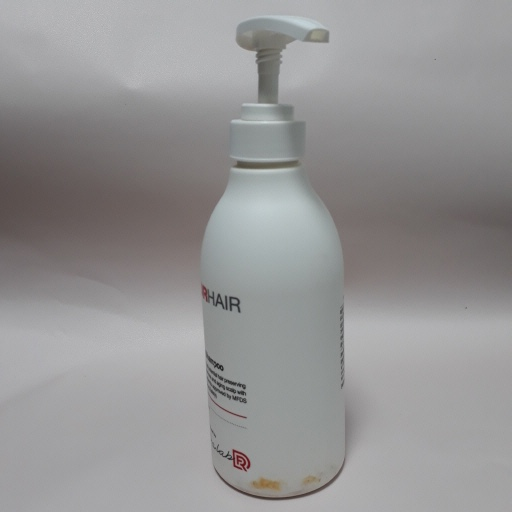Plastic_3: (192, 14, 353, 502)
